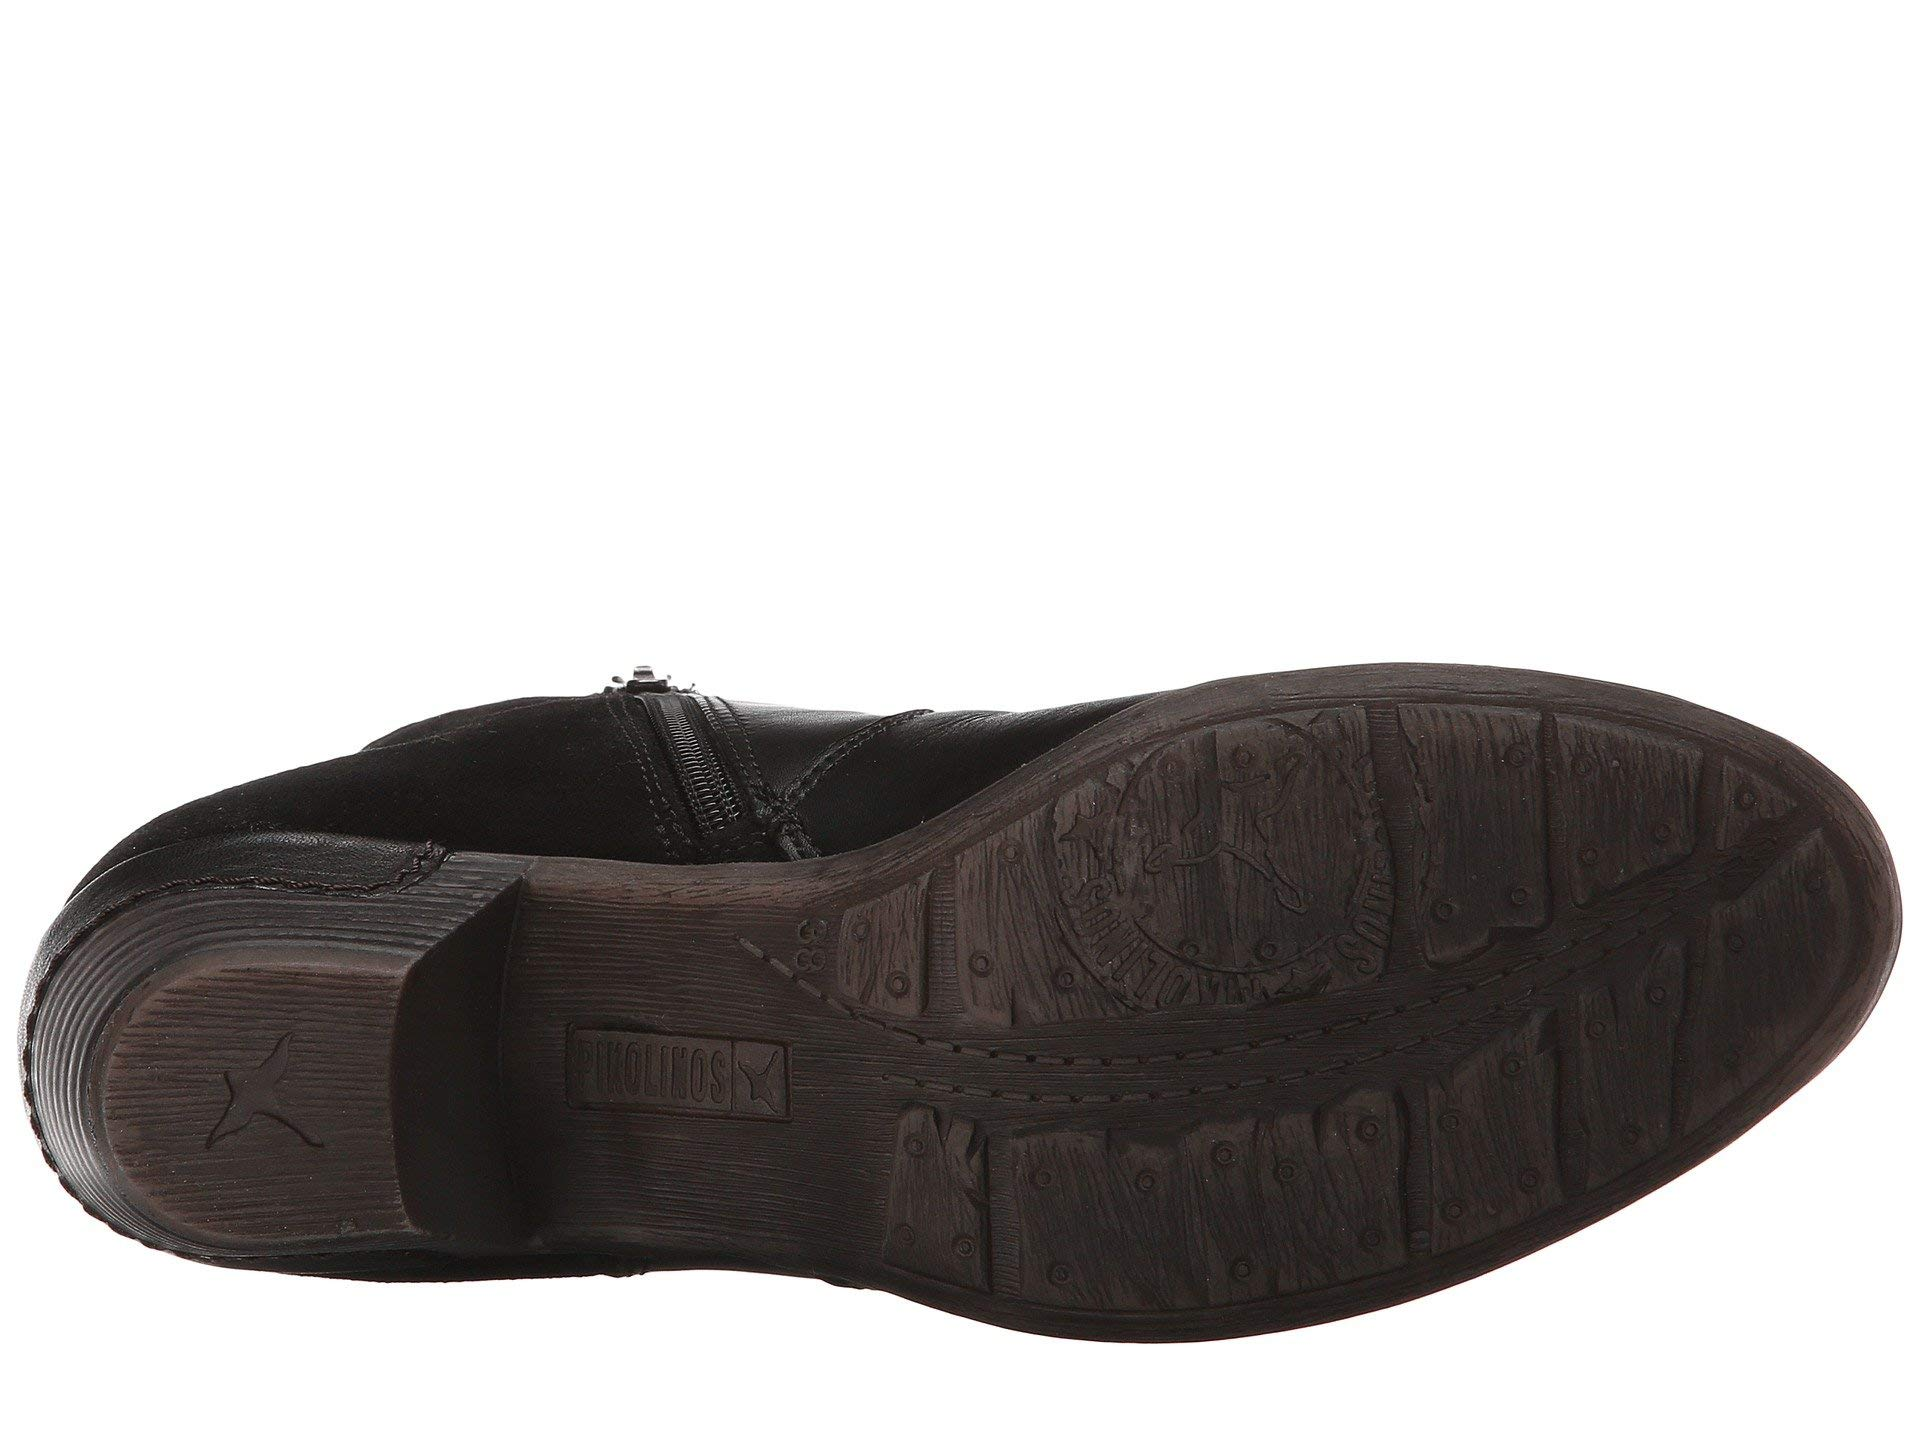star: (162, 1009, 369, 1187)
